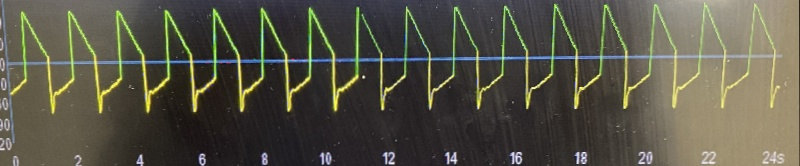peepi: (6, 0, 790, 116)
